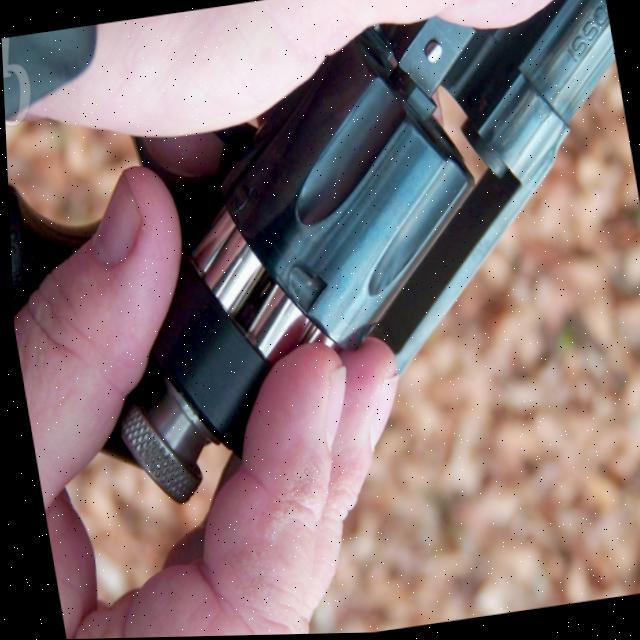pistol: (0, 0, 640, 526)
